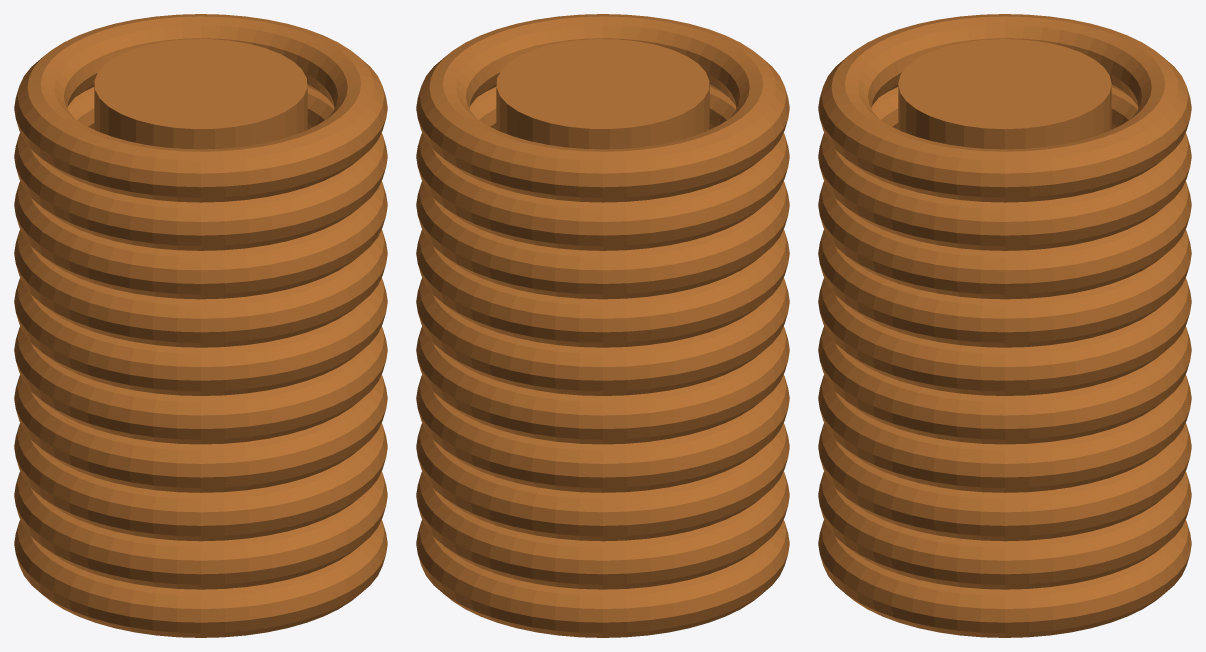
Rendered from coil.obj.
3 views of the same model, side by side, from view 1: azimuth 30°, elevation 25°; view 2: azimuth 150°, elevation 25°; view 3: azimuth 270°, elevation 25° (orthographic).
Visible parts, largest first — view 1: Winding_10, Core, Winding_9, Winding_5, Winding_2, Winding_8, Winding_3, Winding_6, Winding_7, Winding_4, Winding_1; view 2: Winding_10, Core, Winding_9, Winding_5, Winding_2, Winding_8, Winding_3, Winding_6, Winding_7, Winding_4, Winding_1; view 3: Winding_10, Core, Winding_9, Winding_5, Winding_2, Winding_8, Winding_3, Winding_6, Winding_7, Winding_4, Winding_1.
Part boxes in pixels (left/top/right/bottom): Winding_10: left=14, top=14, right=387, bottom=202; Core: left=94, top=39, right=307, bottom=149; Winding_9: left=14, top=87, right=387, bottom=250; Winding_5: left=14, top=326, right=387, bottom=444; Winding_2: left=14, top=471, right=387, bottom=589; Winding_8: left=14, top=181, right=387, bottom=299; Winding_3: left=14, top=423, right=387, bottom=541; Winding_6: left=14, top=278, right=387, bottom=395; Winding_7: left=14, top=229, right=387, bottom=347; Winding_4: left=14, top=375, right=387, bottom=492; Winding_1: left=14, top=520, right=387, bottom=637; Winding_10: left=416, top=14, right=789, bottom=202; Core: left=496, top=39, right=709, bottom=149; Winding_9: left=416, top=87, right=789, bottom=250; Winding_5: left=416, top=326, right=789, bottom=444; Winding_2: left=416, top=471, right=789, bottom=589; Winding_8: left=416, top=181, right=789, bottom=299; Winding_3: left=416, top=423, right=789, bottom=541; Winding_6: left=416, top=278, right=789, bottom=395; Winding_7: left=416, top=229, right=789, bottom=347; Winding_4: left=416, top=375, right=789, bottom=492; Winding_1: left=416, top=520, right=789, bottom=637; Winding_10: left=818, top=14, right=1191, bottom=202; Core: left=898, top=39, right=1111, bottom=149; Winding_9: left=818, top=87, right=1191, bottom=250; Winding_5: left=818, top=326, right=1191, bottom=444; Winding_2: left=818, top=471, right=1191, bottom=589; Winding_8: left=818, top=181, right=1191, bottom=299; Winding_3: left=818, top=423, right=1191, bottom=541; Winding_6: left=818, top=278, right=1191, bottom=395; Winding_7: left=818, top=229, right=1191, bottom=347; Winding_4: left=818, top=375, right=1191, bottom=492; Winding_1: left=818, top=520, right=1191, bottom=637.
Bounding box in the file's own units: 0.7 × 1 × 0.7.
